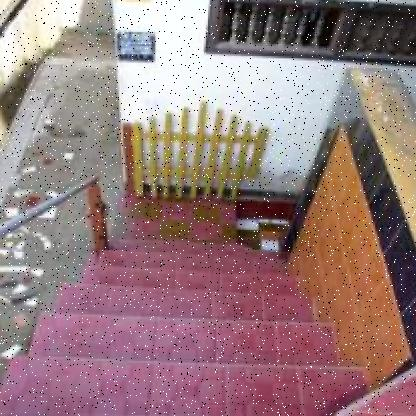stair_down: (24, 258, 329, 406)
